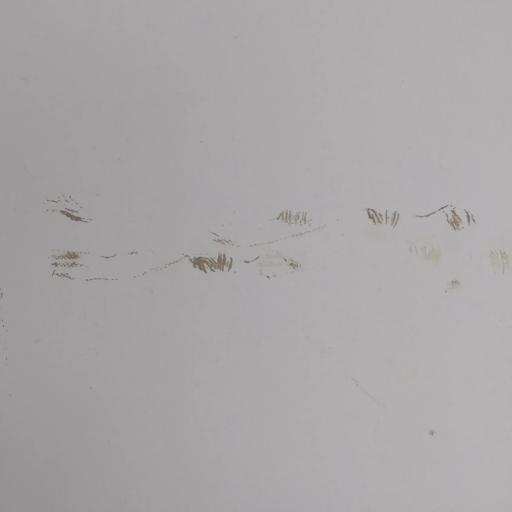stain: (40, 176, 512, 326), (342, 365, 408, 426), (426, 417, 446, 442)
